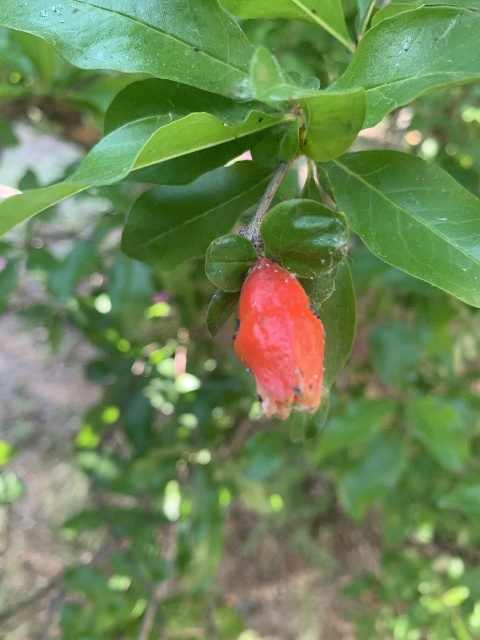flower: (233, 257, 325, 420)
